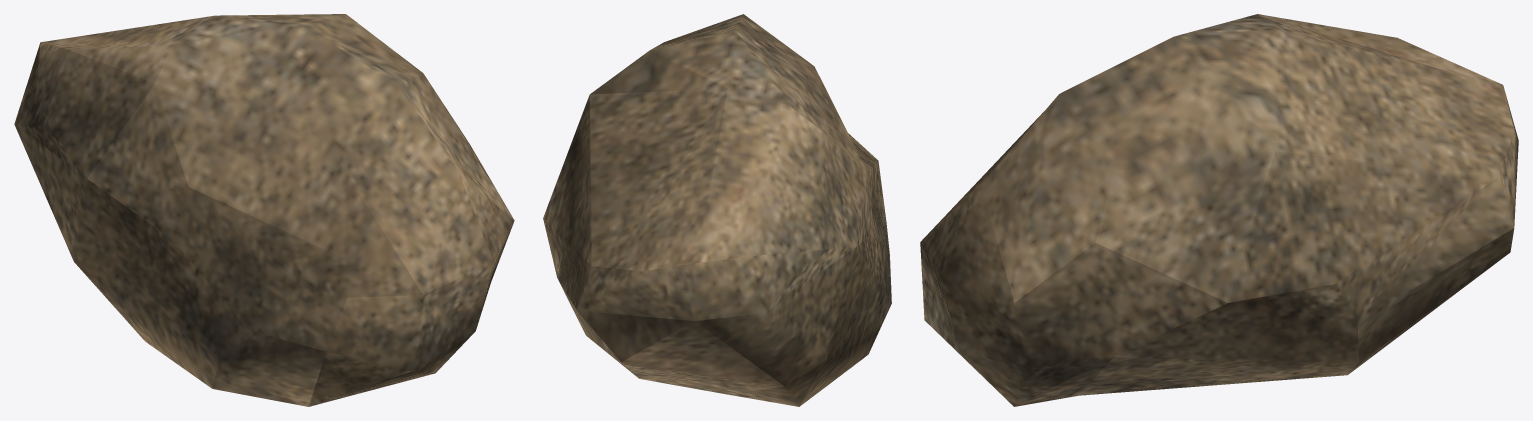
The model's file is Stone5.fbx.
3 renders of one model, left to right at view 1: azimuth 30°, elevation 25°; view 2: azimuth 150°, elevation 25°; view 3: azimuth 270°, elevation 25°, orthographic. The views are drawn at different scales.
Parts seen in each view (by area): view 1: Stone_5; view 2: Stone_5; view 3: Stone_5.
Boxes of the visible parts, x1,y1,x2,y2 form: Stone_5: [14, 14, 514, 406]; Stone_5: [543, 14, 891, 406]; Stone_5: [920, 14, 1518, 406].
Bounding box in the file's own units: 42.27 × 43.92 × 64.52.
